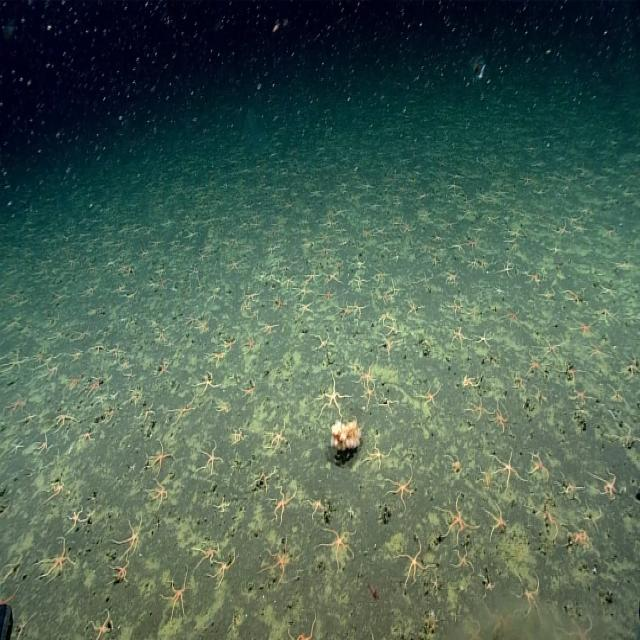brittle-stars: (308, 368, 358, 432), (250, 534, 302, 594), (431, 490, 481, 551), (34, 530, 87, 586), (379, 446, 426, 509), (391, 532, 438, 590), (312, 528, 363, 580), (276, 580, 320, 640), (566, 580, 606, 640), (104, 510, 149, 563), (512, 570, 552, 626), (493, 437, 535, 489), (85, 577, 119, 640), (158, 563, 190, 628), (264, 482, 303, 532), (190, 430, 228, 481), (204, 543, 240, 595), (521, 502, 569, 539), (360, 425, 402, 465), (485, 583, 519, 628), (586, 467, 629, 502), (35, 460, 69, 504), (260, 419, 294, 463), (106, 546, 140, 589), (165, 386, 201, 426), (144, 436, 178, 478), (0, 531, 33, 574), (458, 390, 501, 423), (188, 533, 222, 574), (525, 444, 558, 486), (481, 502, 514, 542), (560, 525, 600, 556), (608, 414, 640, 452), (0, 333, 26, 379), (467, 591, 491, 640), (144, 475, 170, 519), (10, 601, 39, 640), (416, 366, 449, 400), (486, 400, 517, 436), (536, 334, 572, 365), (450, 537, 477, 578), (44, 407, 79, 438), (452, 365, 490, 392), (62, 498, 94, 530), (248, 464, 278, 498), (571, 316, 605, 346), (580, 339, 620, 364), (562, 381, 601, 406), (604, 384, 640, 411), (376, 388, 408, 418), (577, 500, 607, 532), (617, 341, 640, 382), (0, 567, 24, 606), (192, 365, 224, 394), (518, 354, 555, 379), (560, 280, 590, 310), (27, 345, 59, 373), (311, 326, 338, 359), (554, 352, 594, 374), (302, 494, 330, 525), (1, 384, 28, 416), (229, 412, 254, 446), (373, 332, 408, 356), (554, 473, 588, 497), (476, 572, 501, 604), (31, 425, 53, 461), (0, 480, 20, 519), (77, 368, 103, 398), (494, 252, 524, 278), (356, 359, 378, 394), (472, 325, 501, 351), (446, 323, 471, 353), (501, 303, 531, 328), (74, 423, 100, 451), (475, 466, 500, 495), (465, 250, 494, 275), (74, 272, 104, 296), (594, 298, 624, 322), (152, 347, 175, 378), (444, 446, 464, 480), (349, 289, 373, 317), (40, 357, 63, 386), (93, 397, 119, 422), (401, 294, 428, 318), (6, 428, 26, 460), (60, 361, 80, 393), (236, 377, 260, 403), (506, 370, 534, 392), (595, 278, 623, 300), (525, 258, 549, 283), (610, 620, 640, 640), (370, 263, 393, 289), (530, 385, 553, 411), (124, 383, 146, 410), (211, 490, 232, 518), (360, 384, 381, 412), (67, 323, 91, 347), (60, 340, 88, 360), (464, 301, 487, 325), (441, 266, 465, 289), (295, 296, 317, 321), (268, 287, 289, 313), (203, 347, 233, 365), (290, 282, 317, 302), (444, 300, 471, 320), (224, 607, 243, 635), (104, 342, 126, 365), (242, 332, 262, 357), (142, 399, 159, 428), (18, 408, 39, 431), (383, 316, 406, 337), (256, 318, 280, 338), (89, 328, 108, 353), (338, 291, 356, 317), (222, 256, 243, 278), (486, 280, 509, 300), (48, 286, 72, 305), (92, 382, 110, 407), (240, 286, 265, 304), (320, 264, 345, 282), (430, 562, 448, 587), (193, 319, 214, 339), (349, 265, 370, 285), (212, 398, 234, 417), (319, 279, 338, 301), (221, 333, 239, 356), (202, 287, 222, 307), (351, 246, 370, 266), (124, 281, 140, 304), (302, 268, 324, 284), (375, 308, 393, 327), (362, 616, 376, 640), (155, 319, 170, 341), (110, 274, 126, 294), (280, 268, 296, 287), (182, 313, 200, 329), (123, 368, 138, 387), (344, 503, 360, 520), (108, 384, 121, 402), (118, 358, 132, 374), (238, 302, 252, 318), (266, 264, 278, 281), (379, 292, 391, 308), (334, 250, 345, 266)
